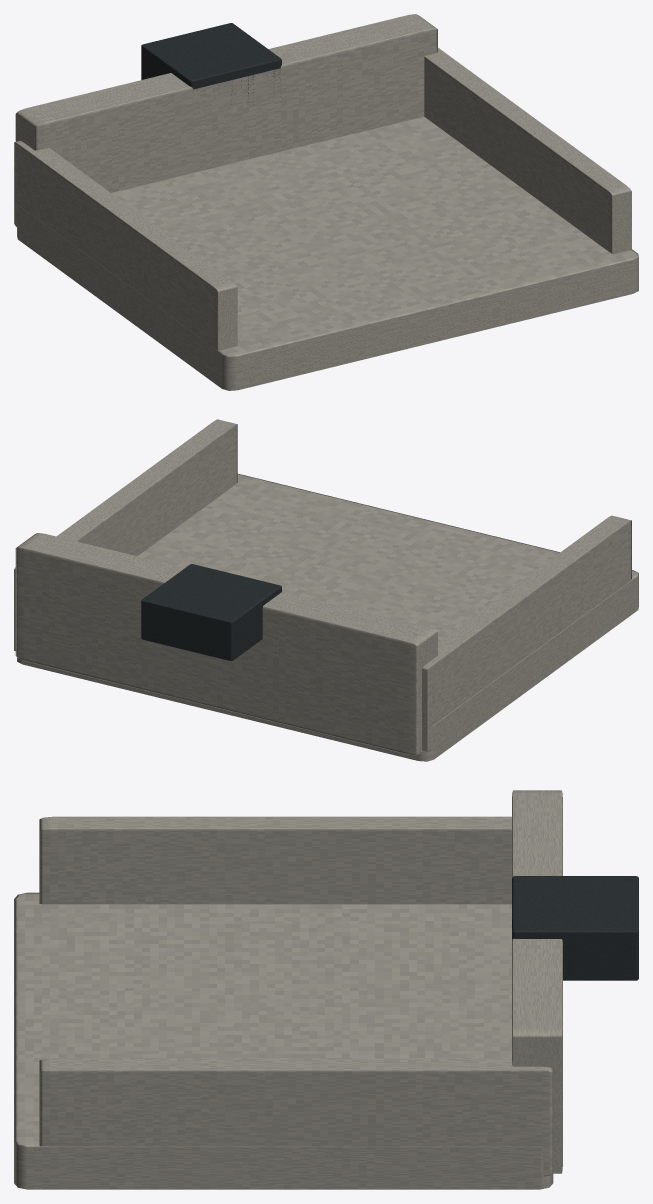
The model's file is dustpan.glb.
The picture shows the model from 3 angles, top to bottom: view 1: azimuth 30°, elevation 25°; view 2: azimuth 150°, elevation 25°; view 3: azimuth 270°, elevation 25°; orthographic projection. The views are drawn at different scales.
Parts seen in each view (by area): view 1: pan, back, side (×2), handle; view 2: back, pan, side (×2), handle; view 3: pan, side (×2), back, handle.
Part boxes in pixels (bbox=[...]): pan: bbox=[17, 116, 638, 390]; back: bbox=[15, 14, 437, 192]; side (×2): bbox=[14, 47, 631, 350]; handle: bbox=[141, 23, 281, 110]; back: bbox=[15, 533, 437, 755]; pan: bbox=[17, 473, 638, 761]; side (×2): bbox=[14, 419, 631, 751]; handle: bbox=[141, 564, 281, 661]; pan: bbox=[14, 892, 553, 1189]; side (×2): bbox=[39, 816, 553, 1176]; back: bbox=[512, 790, 562, 1173]; handle: bbox=[512, 876, 638, 980].
Size of the model in its own units: 0.266 by 0.0779 by 0.2758.
Materials: 2 (2 with a texture image).
